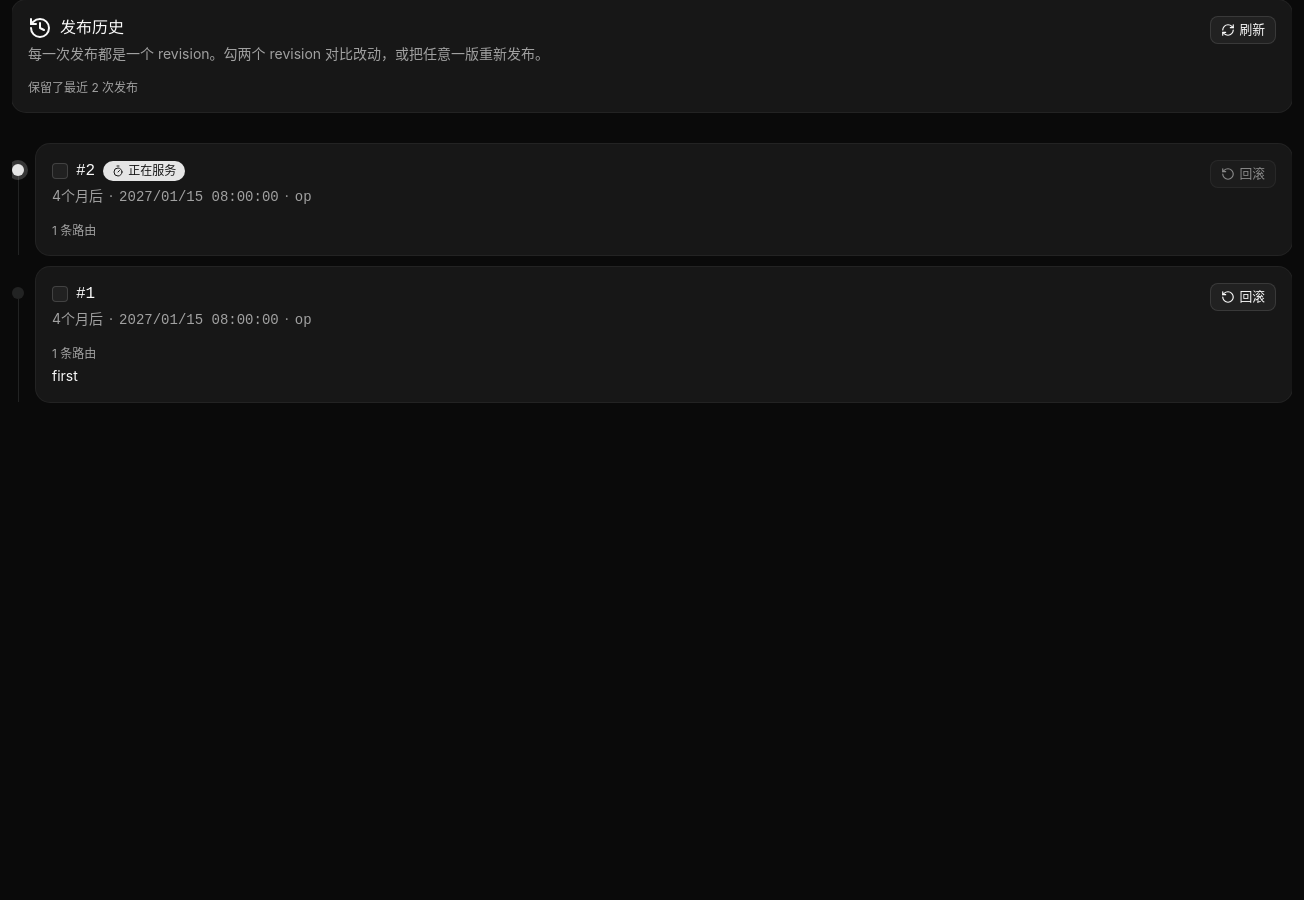
HistoryView 发布历史 › 勾两个 revision 触发 diff，方向按时间序而不是勾选顺序
Note: 自上而下勾：先较新的 #2，再较旧的 #1。from 仍必须是 1。
Click the checkbox named "把 revision 2 选进对比" at (60, 171), box [52,163,68,179]
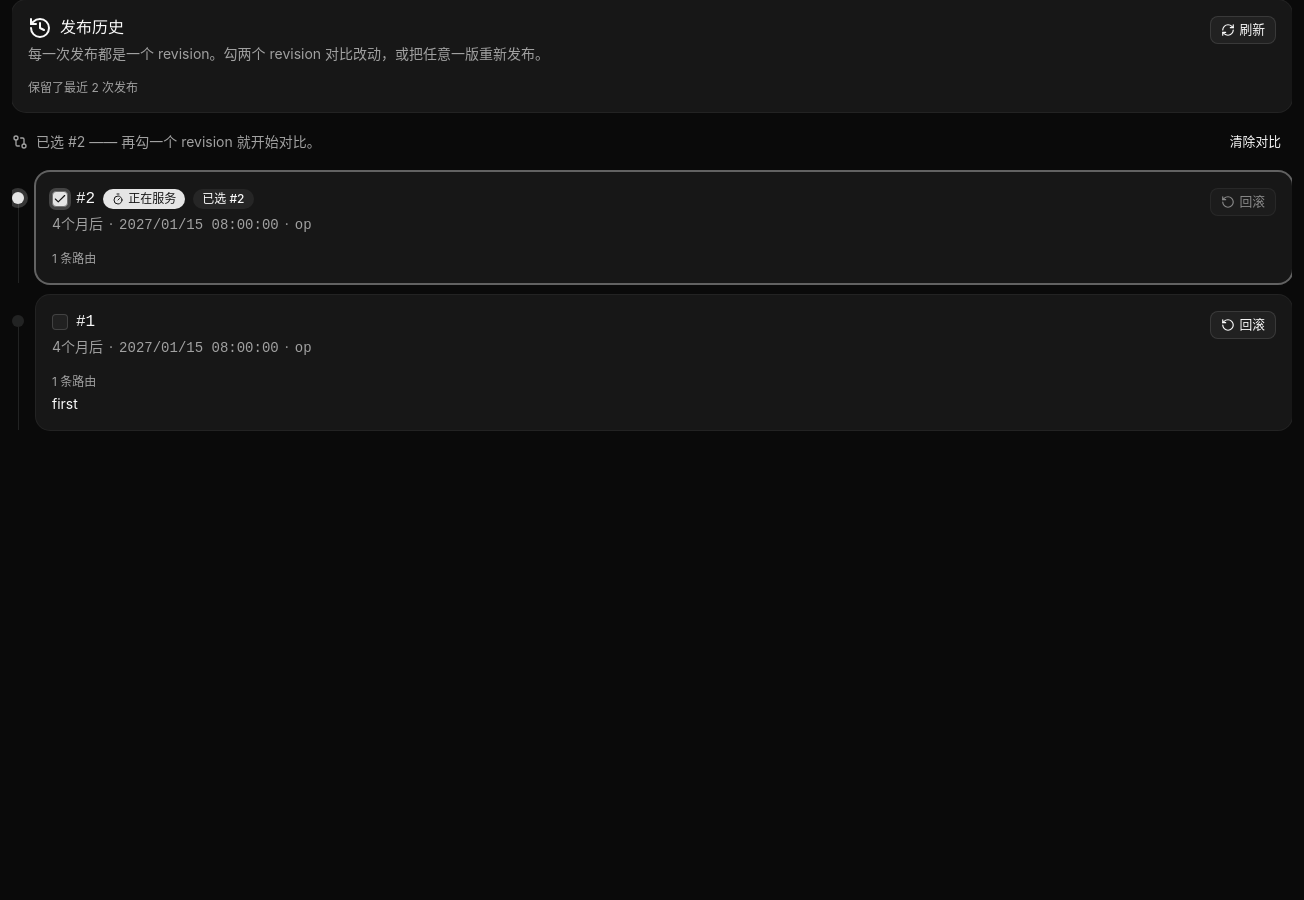
Expected: the text "已选 #2 —— 再勾一个 revision 就开始对比。" is shown, [12,132,321,152]
Click the checkbox named "把 revision 1 选进对比" at (60, 322), box [52,314,68,330]
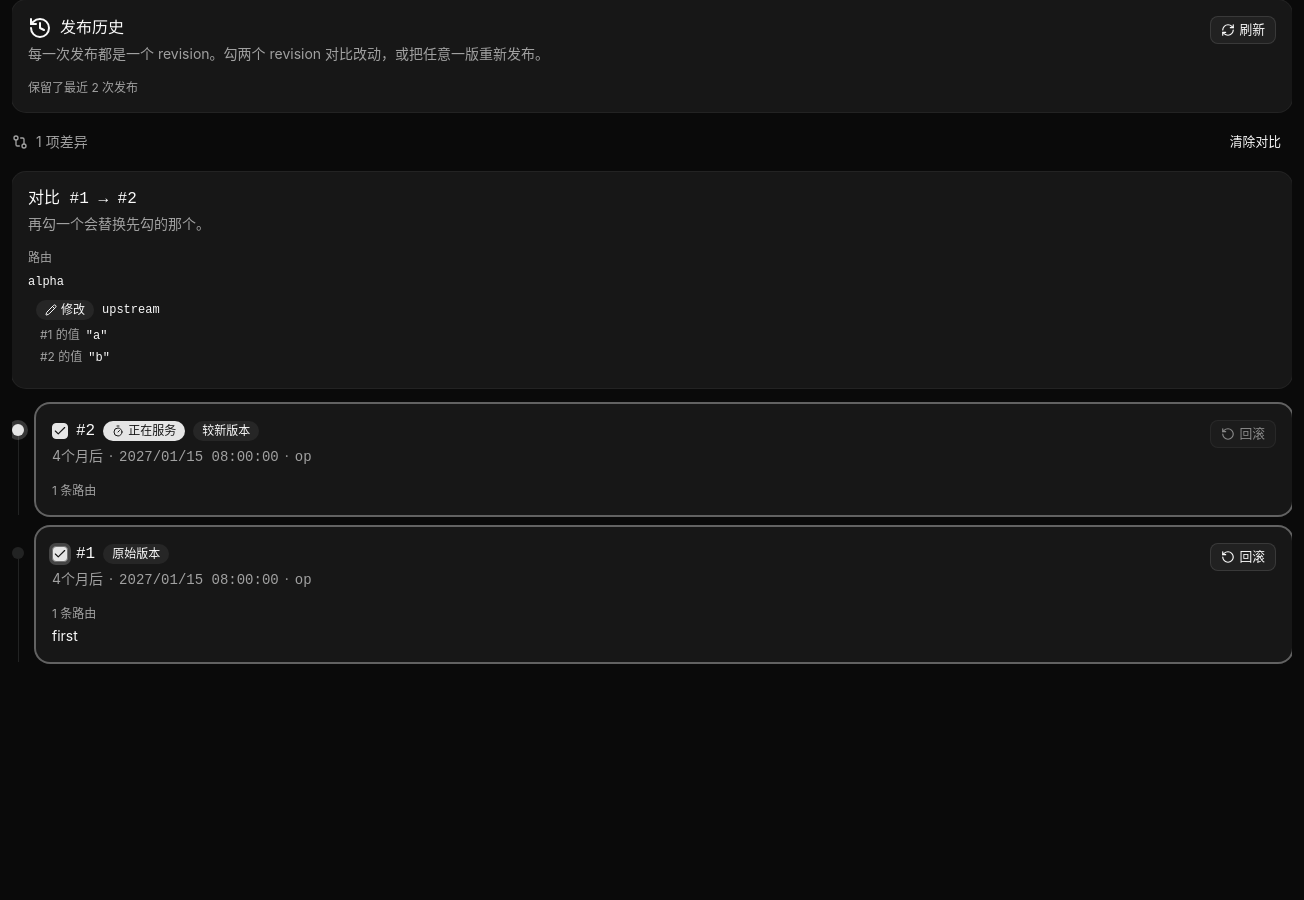
Expected: the heading "对比 #1 → #2" is shown, [28,190,137,208]
Expected: the heading "alpha" is shown, [28,274,64,290]
Expected: the text "upstream" is shown, [102,302,160,318]
